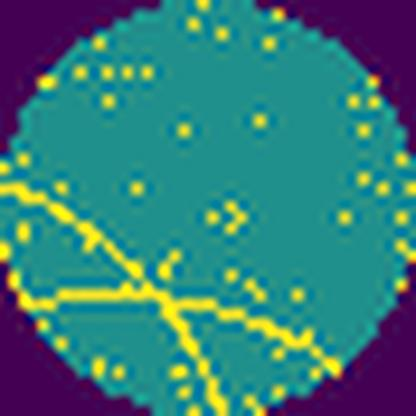Scratch: (0, 176, 347, 416)
